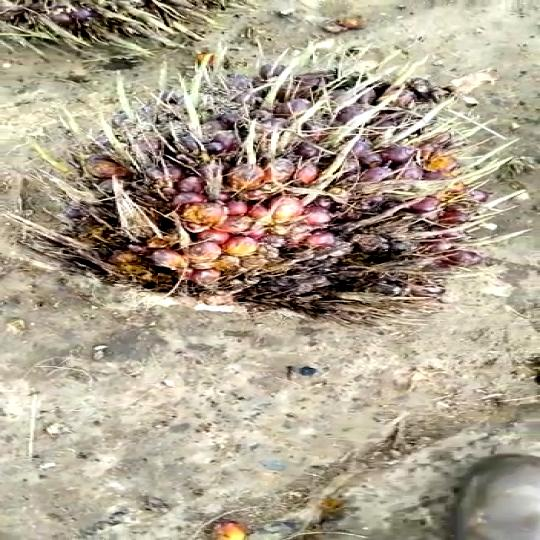masak: (16, 38, 540, 342)
